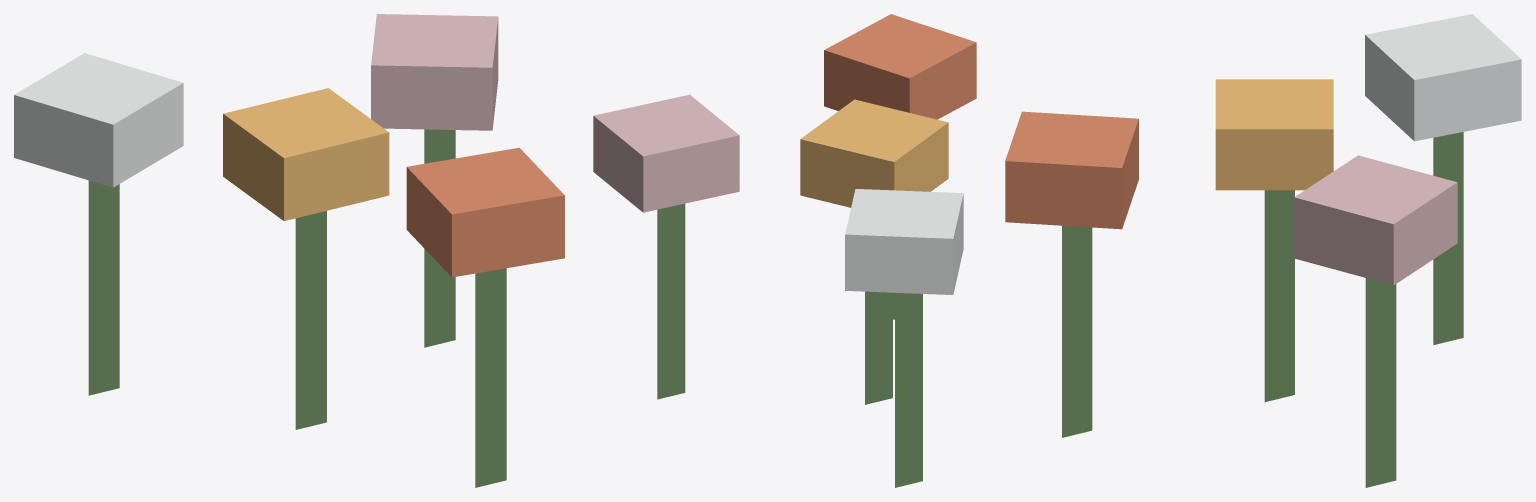
File: flowers.glb
The picture shows the model from 3 angles, left to right: view 1: azimuth 30°, elevation 25°; view 2: azimuth 150°, elevation 25°; view 3: azimuth 270°, elevation 25°; orthographic projection. The views are drawn at different scales.
Parts seen in each view (by area): view 1: detail_head2, detail_head0, detail_head3, detail_head1, detail_stem3, detail_stem0, detail_stem2, detail_stem1; view 2: detail_head1, detail_head3, detail_head0, detail_head2, detail_stem1, detail_stem2, detail_stem0; view 3: detail_head1, detail_head2, detail_head3, detail_head0, detail_stem1, detail_stem0, detail_stem3, detail_stem2.
Boxes of the visible parts, x1,y1,x2,y2 form: detail_head2: (14,53,183,187); detail_head0: (223,88,389,220); detail_head3: (406,147,564,277); detail_head1: (371,14,498,130); detail_stem3: (475,268,506,487); detail_stem0: (295,211,326,429); detail_stem2: (88,180,119,395); detail_stem1: (424,129,455,347); detail_head1: (593,94,739,212); detail_head3: (824,14,976,119); detail_head0: (800,99,948,207); detail_head2: (845,189,963,294); detail_stem1: (657,203,685,399); detail_stem2: (895,293,922,487); detail_stem0: (865,291,892,404); detail_head1: (1294,155,1457,285); detail_head2: (1365,14,1521,141); detail_head3: (1005,111,1138,229); detail_head0: (1215,79,1333,190); detail_stem1: (1365,278,1396,487); detail_stem0: (1264,190,1294,401); detail_stem3: (1062,225,1092,437); detail_stem2: (1433,132,1463,344).
Size of the model in its own units: 0.2948 by 0.19 by 0.306.
